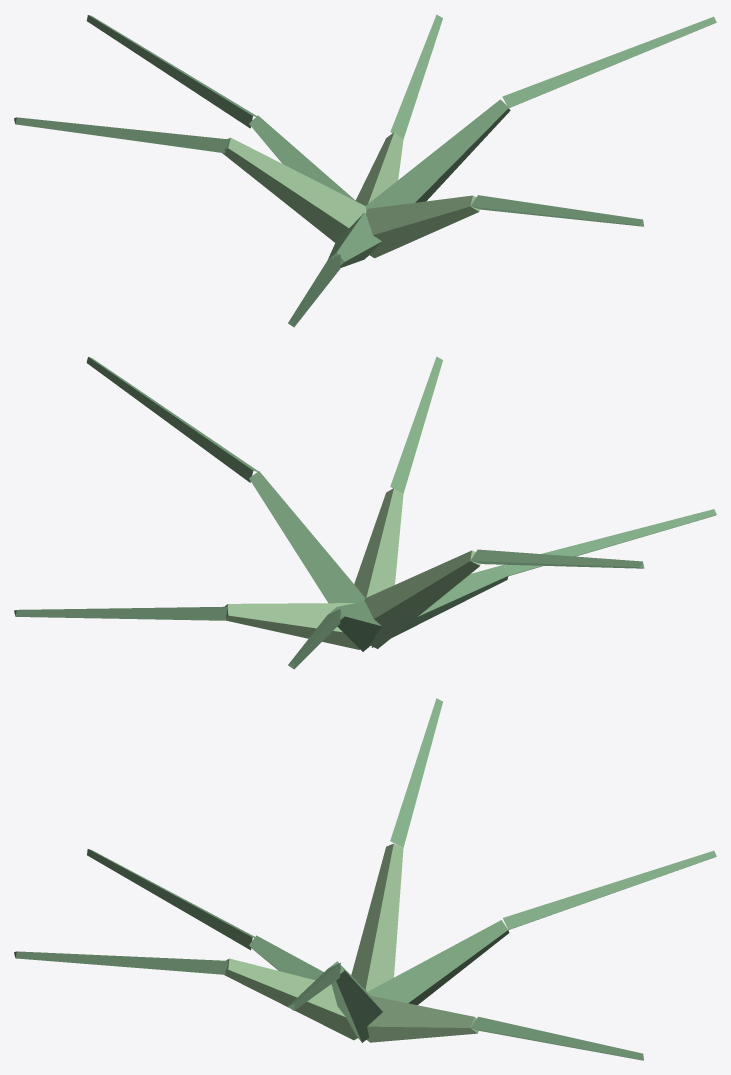
The model's file is fern_v45.glb.
3 views of the same model, one above another, from view 1: azimuth 30°, elevation 25°; view 2: azimuth 150°, elevation 25°; view 3: azimuth 270°, elevation 25° (orthographic).
Visible parts, largest first — view 1: lod0; view 2: lod0; view 3: lod0.
Boxes of the visible parts, box(x1,y1,x2,y2) form: lod0: box(14, 14, 716, 327); lod0: box(14, 356, 716, 669); lod0: box(14, 698, 716, 1060).
Size of what is drawn, in the model's own units: 0.9839 by 0.2839 by 0.9519.
